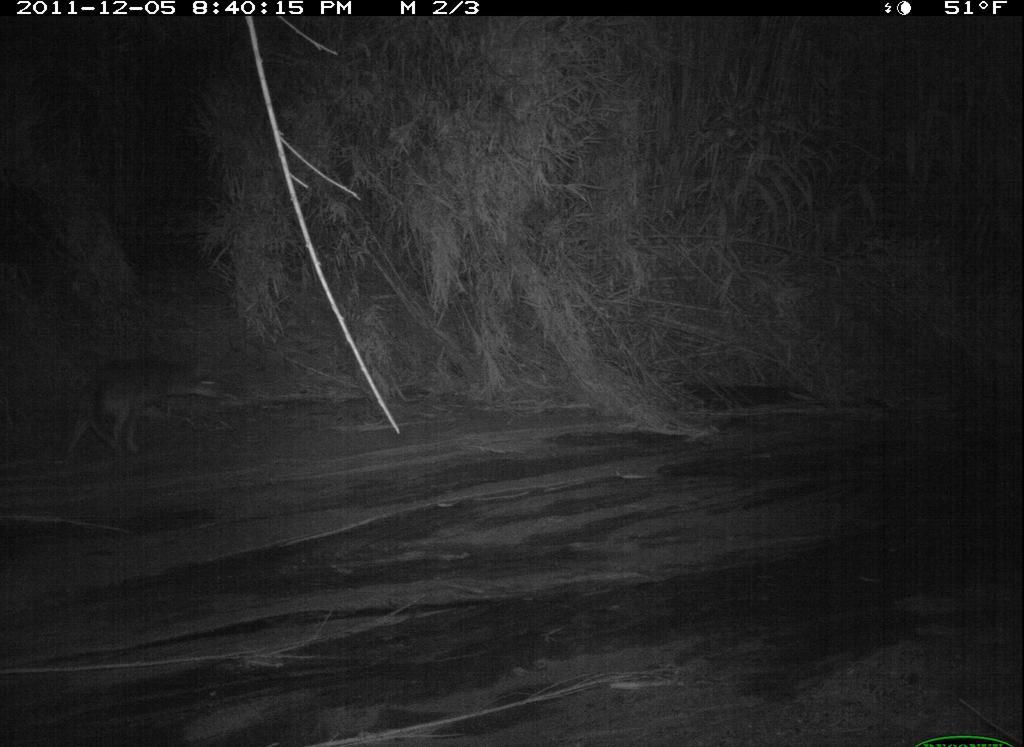coyote: (65, 361, 228, 466)
